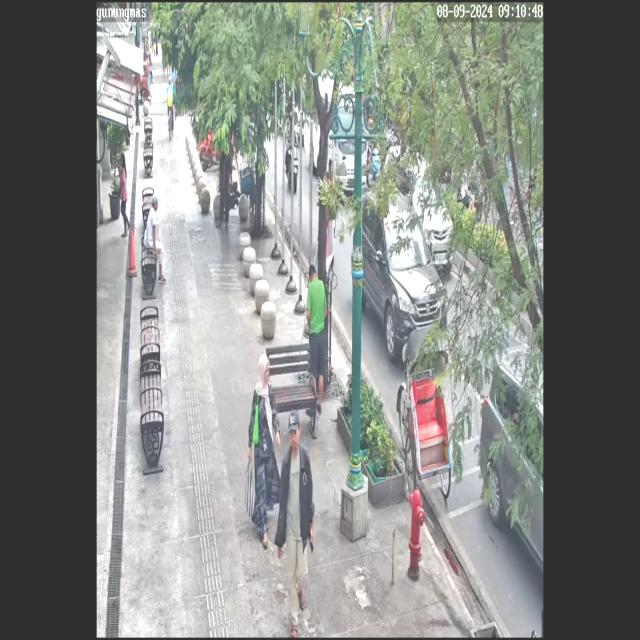Car: (348, 175, 452, 375), (482, 337, 545, 588), (384, 144, 462, 277)
Motorcycle: (282, 117, 303, 197)
Truck: (304, 68, 369, 197)
